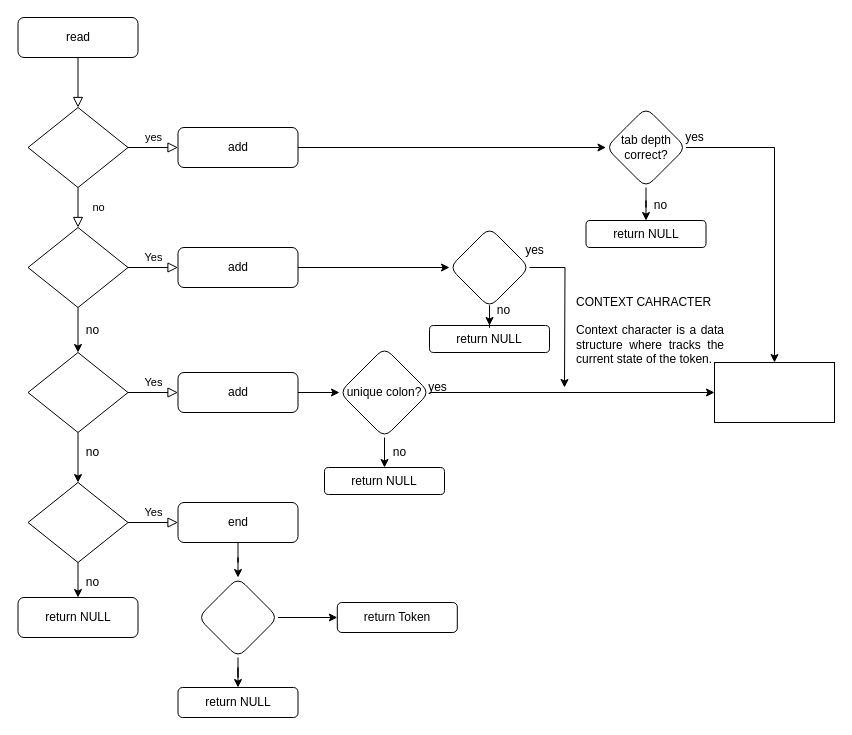
Some shapes in this 852 by 735 pixel diagram are drawn without their labels. Here are the shapes that lost their labels. From the top down, the box of each, then its label:
(27, 106, 128, 188): is tab?
(27, 226, 128, 308): is a-z?
(448, 226, 530, 308): does match key pattern?
(27, 352, 128, 432): is colon
(714, 362, 834, 422): add context character
(27, 482, 128, 562): is newline?
(197, 576, 278, 658): correct pattern?
